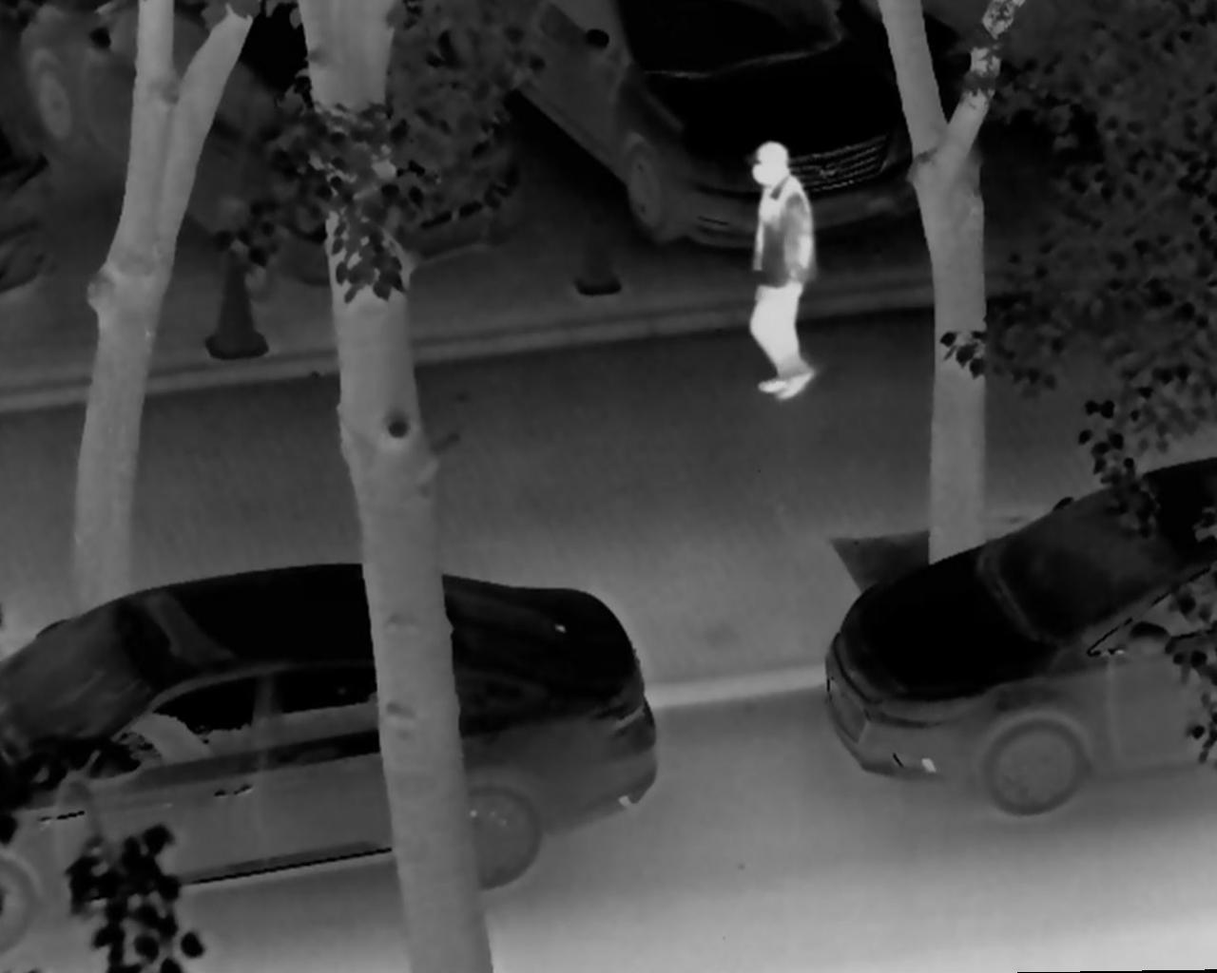person: (733, 139, 822, 405)
